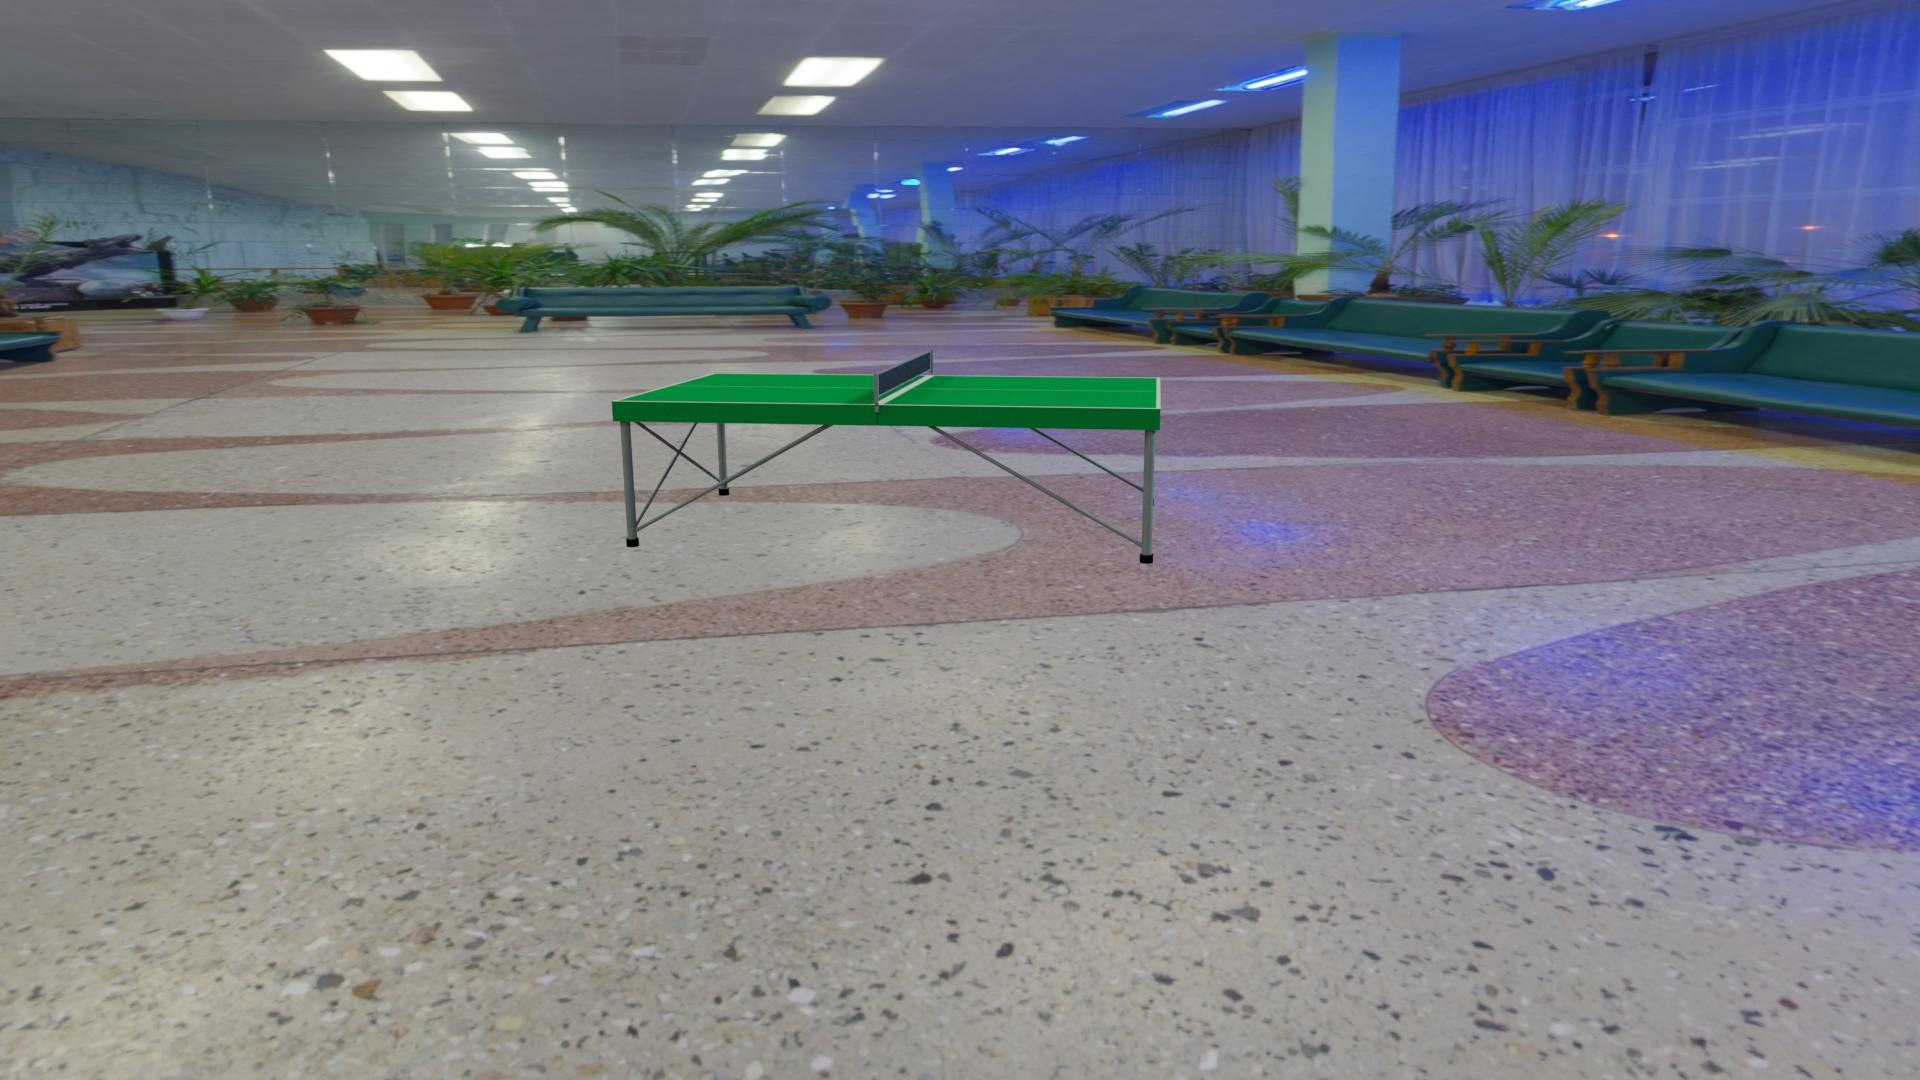table: (617, 373, 1156, 409)
